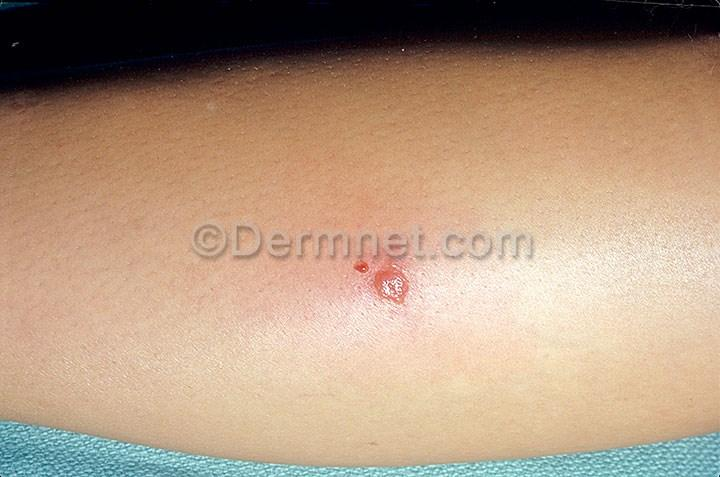Spider: (339, 244, 419, 313)
